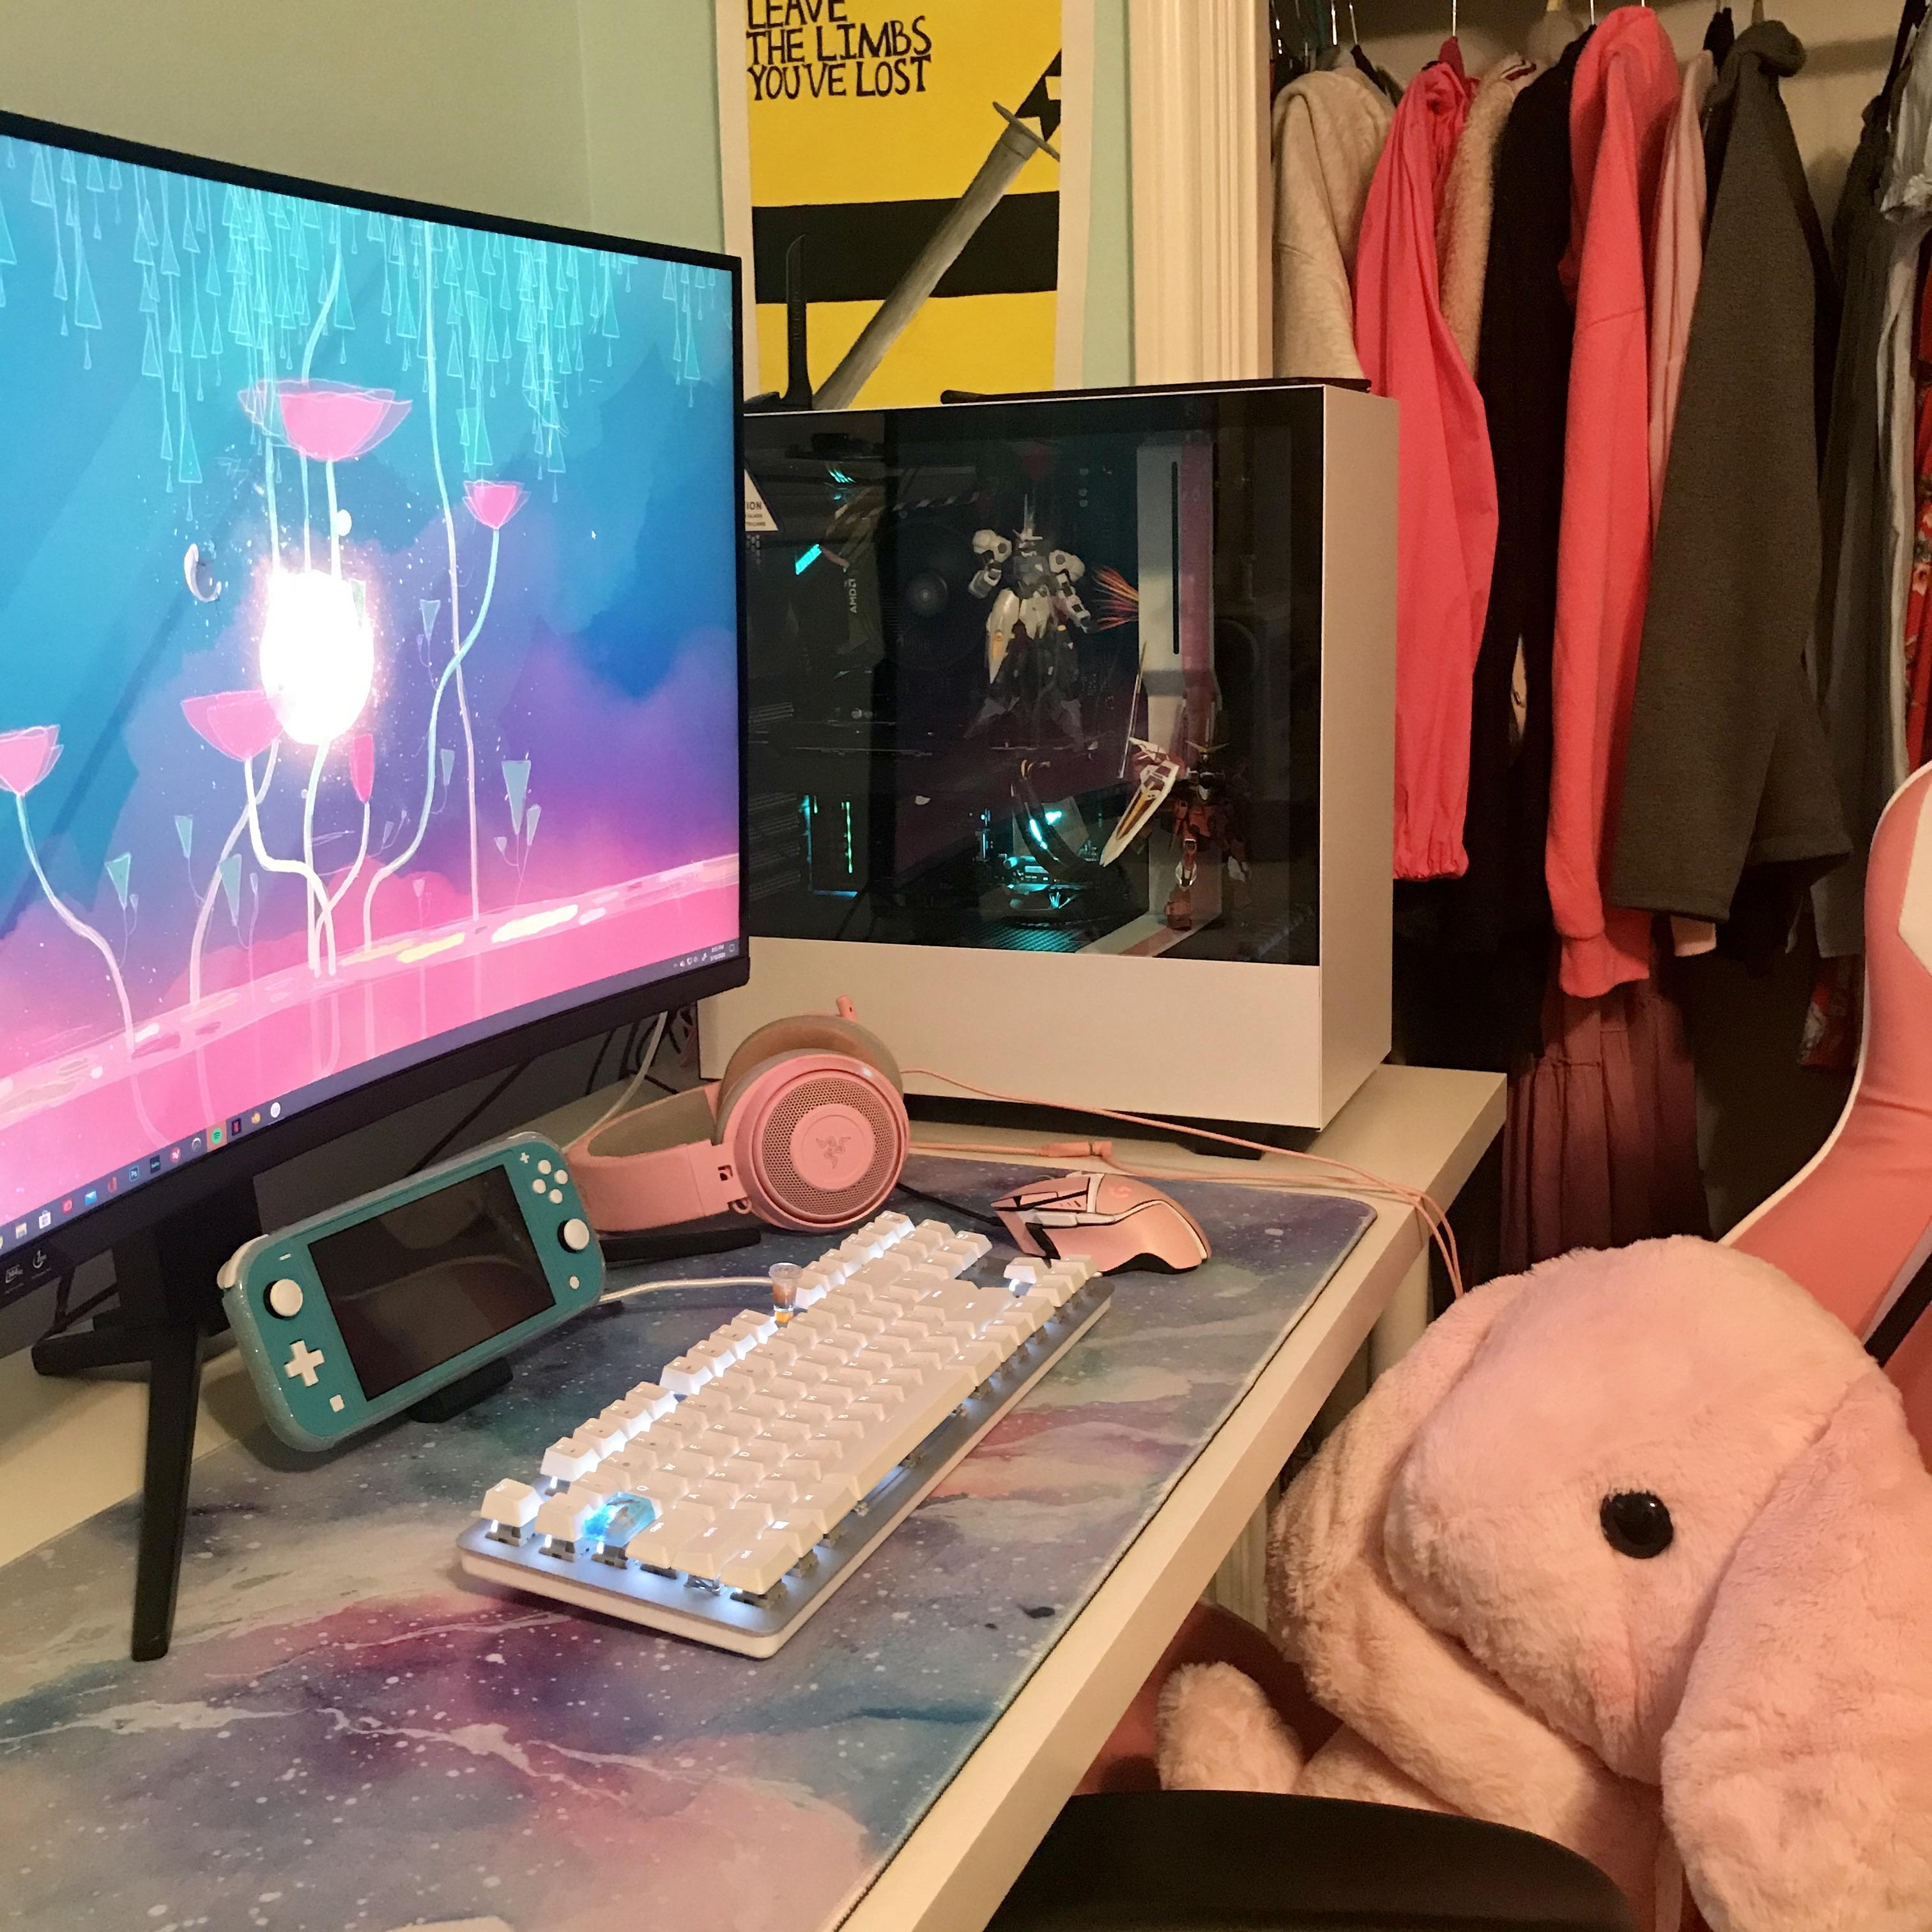Chair (Gaming): (1014, 745, 1932, 1932)
Decoration (Generic): (715, 0, 1093, 412)
Desk (Generic): (0, 1063, 1518, 1932)
Desktop (Windows): (637, 361, 1421, 1141)
Gaming Console: (170, 1125, 628, 1458)
Headphones: (517, 1003, 952, 1253)
Keyboard (Gaming): (400, 1212, 1136, 1665)
Monitor (Landscape): (0, 96, 775, 1323)
Mouse (Gaming): (966, 1125, 1240, 1306)
Mousepad (Generic): (0, 1171, 1398, 1930)
